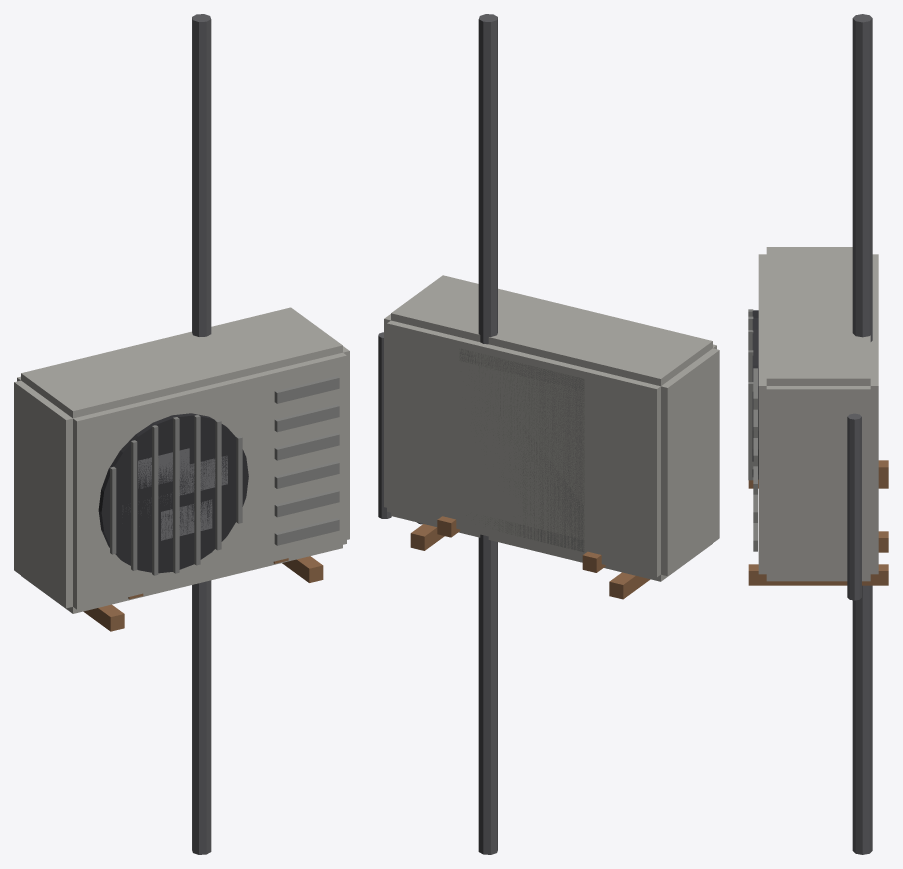
The model's file is wallac112.glb.
The picture shows the model from 3 angles, left to right: view 1: azimuth 30°, elevation 25°; view 2: azimuth 150°, elevation 25°; view 3: azimuth 270°, elevation 25°; orthographic projection.
Parts seen in each view (by area): view 1: ac-body, ac-well, box-conduit.001, box-conduit, ac-fan.003, ac-fan.001, ac-fan, ac-bar.003, ac-bar.002, ac-bar.004, ac-bar.005, ac-bar.001 (+8 smaller); view 2: ac-body, acsmall-body, box-body, box-conduit.001, box-conduit, ac-pipe, ac-bracket; view 3: ac-body, box-conduit.001, box-conduit, ac-pipe, ac-bracket.001, ac-well, ac-bar.006.
Part boxes in pixels (x1=…): ac-body: x1=14, y1=307, x2=349, y2=613; ac-well: x1=98, y1=413, x2=248, y2=573; box-conduit.001: x1=192, y1=14, x2=211, y2=336; box-conduit: x1=192, y1=580, x2=211, y2=854; ac-fan.003: x1=161, y1=499, x2=212, y2=540; ac-fan.001: x1=138, y1=448, x2=189, y2=488; ac-fan: x1=179, y1=455, x2=227, y2=495; ac-bar.003: x1=173, y1=417, x2=179, y2=573; ac-bar.002: x1=152, y1=425, x2=158, y2=575; ac-bar.004: x1=194, y1=415, x2=200, y2=565; ac-bar.005: x1=215, y1=419, x2=221, y2=550; ac-bar.001: x1=131, y1=440, x2=137, y2=570; ac-body: x1=384, y1=275, x2=719, y2=581; acsmall-body: x1=425, y1=352, x2=618, y2=548; box-body: x1=459, y1=348, x2=584, y2=552; box-conduit.001: x1=478, y1=14, x2=497, y2=344; box-conduit: x1=478, y1=534, x2=497, y2=854; ac-pipe: x1=378, y1=332, x2=391, y2=518; ac-bracket: x1=609, y1=572, x2=650, y2=599; ac-body: x1=758, y1=247, x2=878, y2=581; box-conduit.001: x1=852, y1=14, x2=872, y2=341; box-conduit: x1=852, y1=585, x2=872, y2=854; ac-pipe: x1=847, y1=413, x2=861, y2=600; ac-bracket.001: x1=748, y1=564, x2=888, y2=585; ac-well: x1=752, y1=310, x2=758, y2=479; ac-bar.006: x1=748, y1=382, x2=753, y2=469.
Size of the model in its own units: 0.858 by 2.3 by 0.351.
